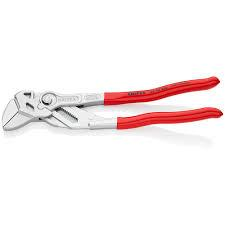pliers: (0, 74, 224, 130)
